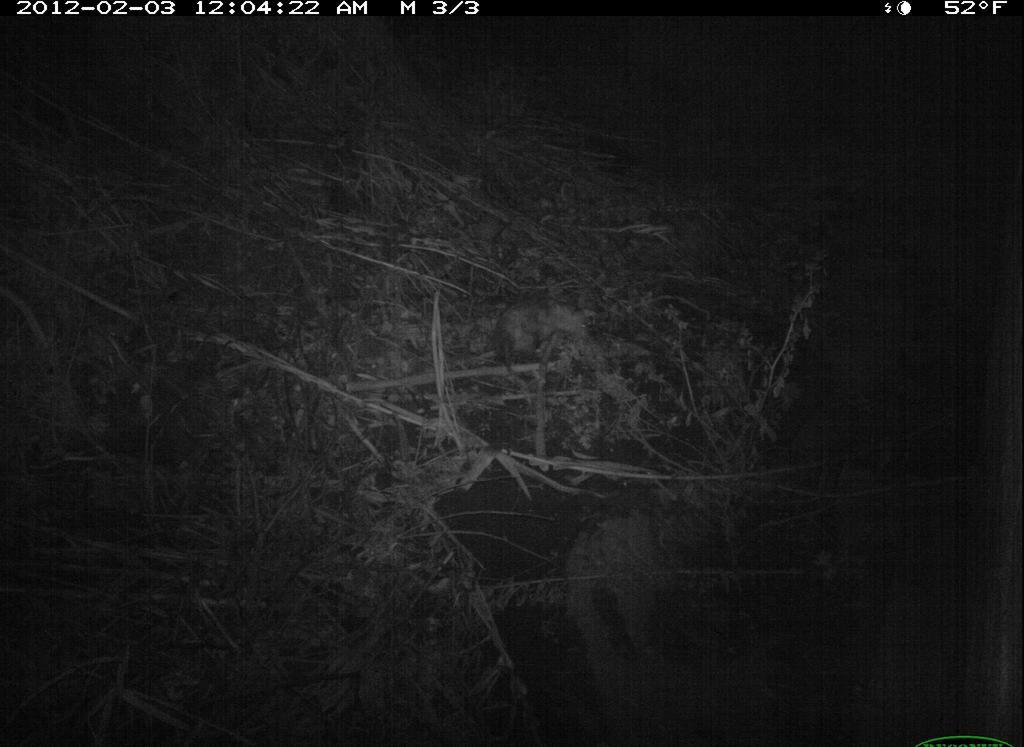opossum: (481, 292, 609, 378)
